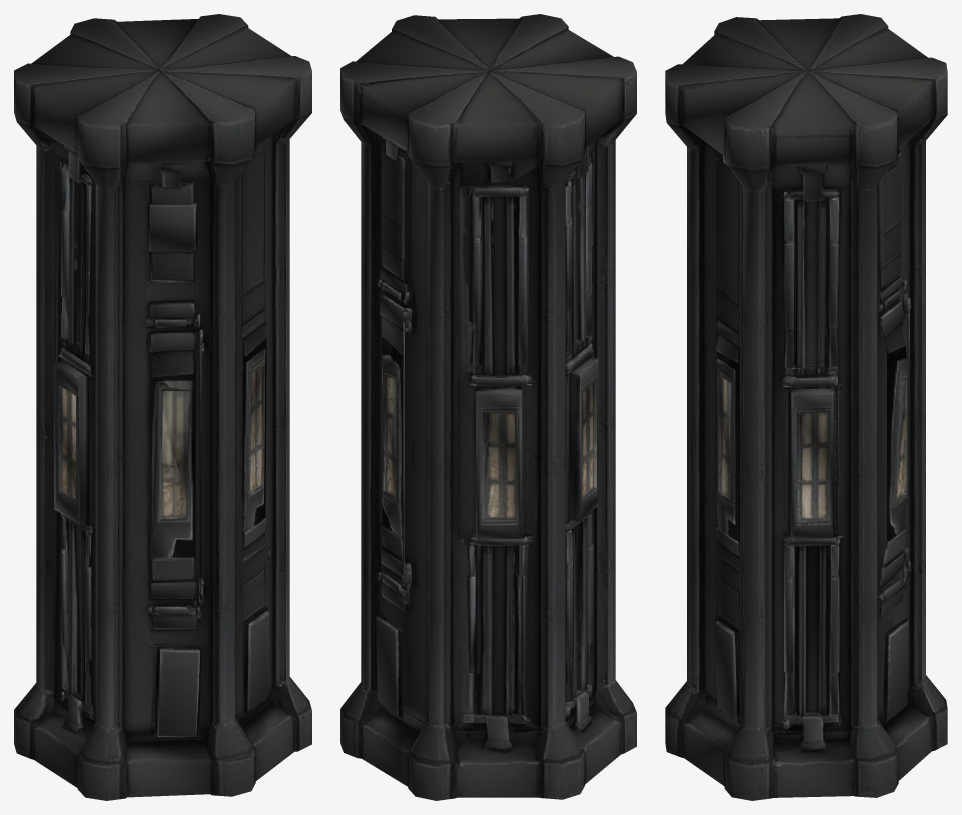
Rendered from sci-fi-stargate-props-industrial-wall-column.glb.
3 renders of one model, left to right at view 1: azimuth 30°, elevation 25°; view 2: azimuth 150°, elevation 25°; view 3: azimuth 270°, elevation 25°, orthographic.
Visible parts, largest first — view 1: Industrial Wall Column; view 2: Industrial Wall Column; view 3: Industrial Wall Column.
Boxes of the visible parts, box(x1,y1,x2,y2) form: Industrial Wall Column: box(14, 14, 311, 800); Industrial Wall Column: box(340, 14, 636, 800); Industrial Wall Column: box(665, 14, 947, 800).
Bounding box in the file's own units: 0.3691 × 0.998 × 0.3809.
Materials: 1 (1 with a texture image).
